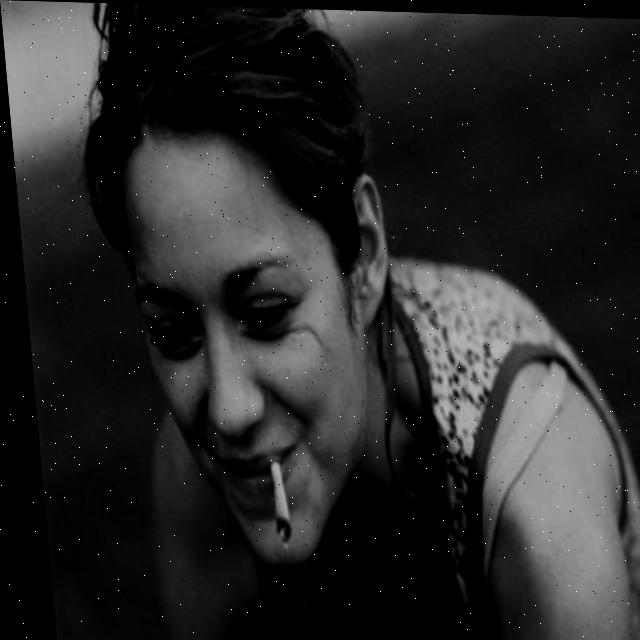cigarette: (261, 460, 283, 547)
